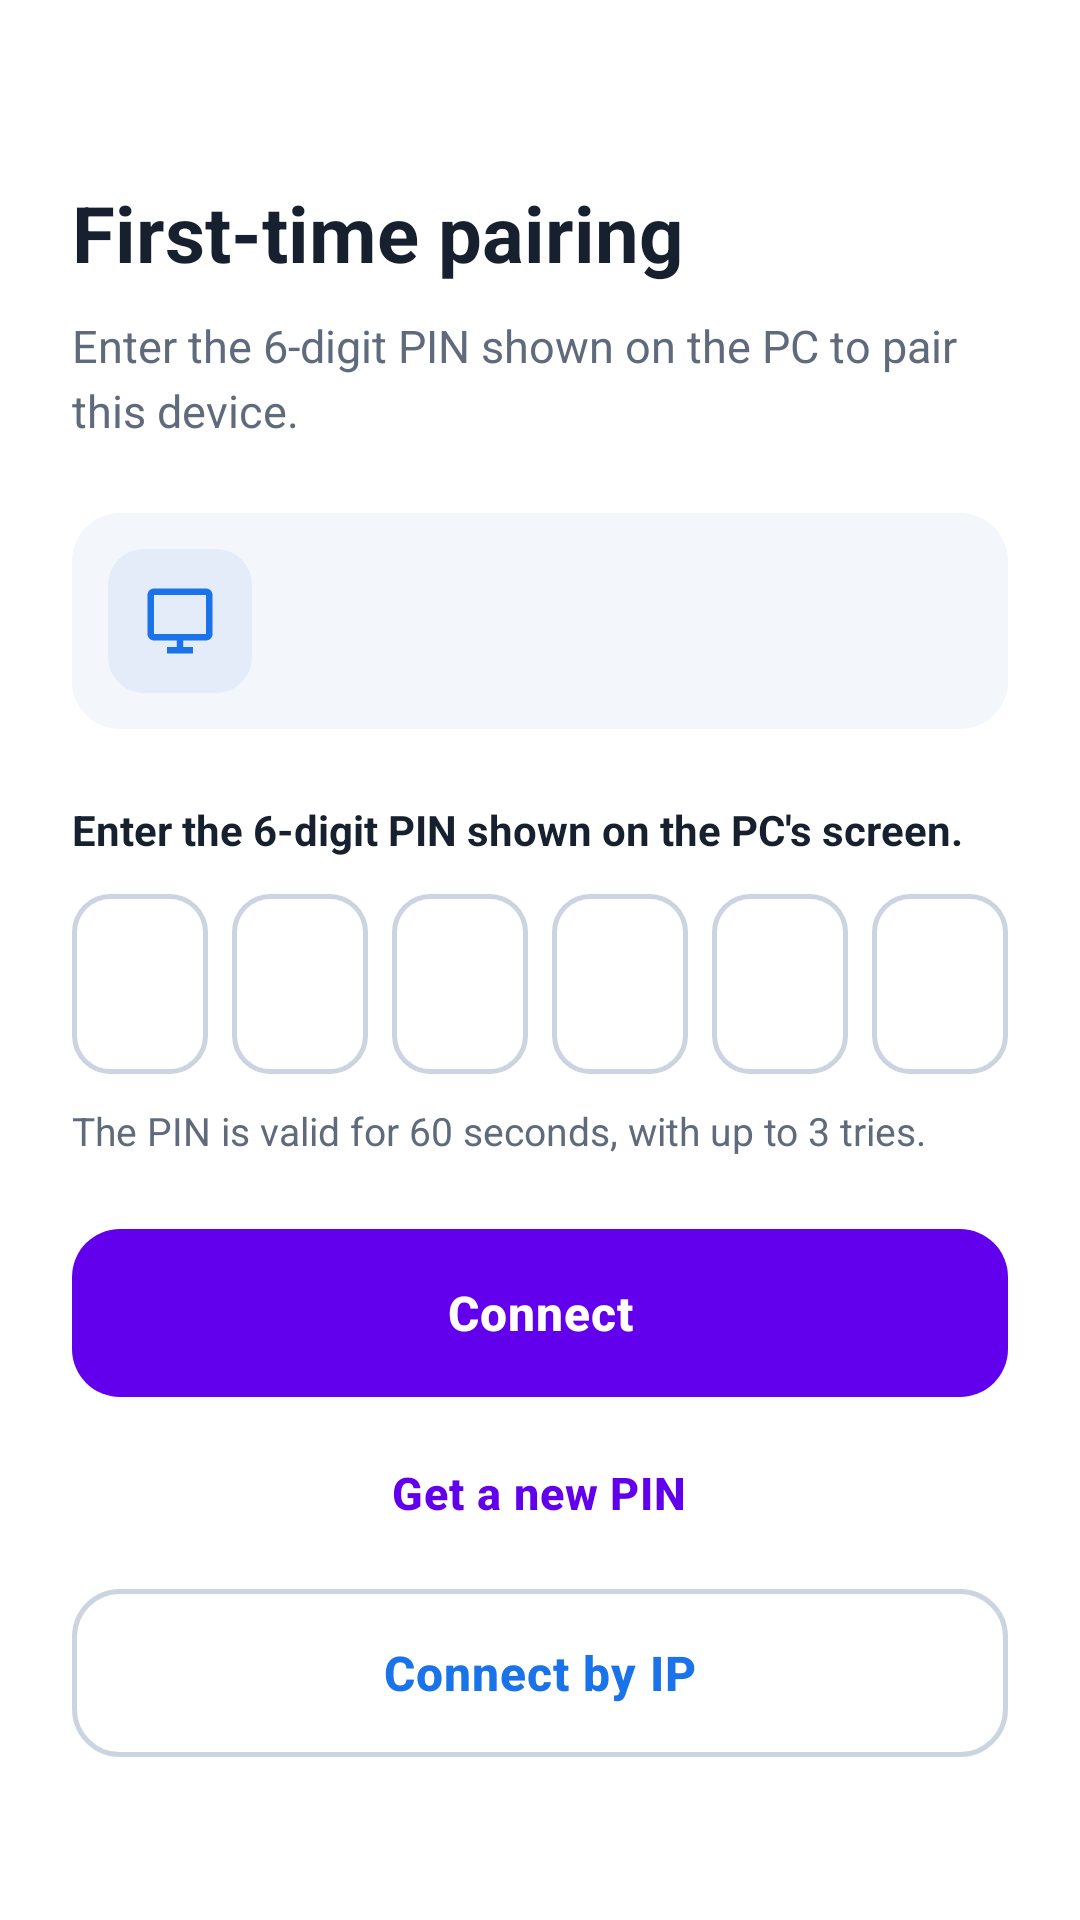

Icons on this 1080w x 1920h Android screen, each with its box as region(x1, y1, x2, y2):
desktop: region(147, 588, 213, 654)
